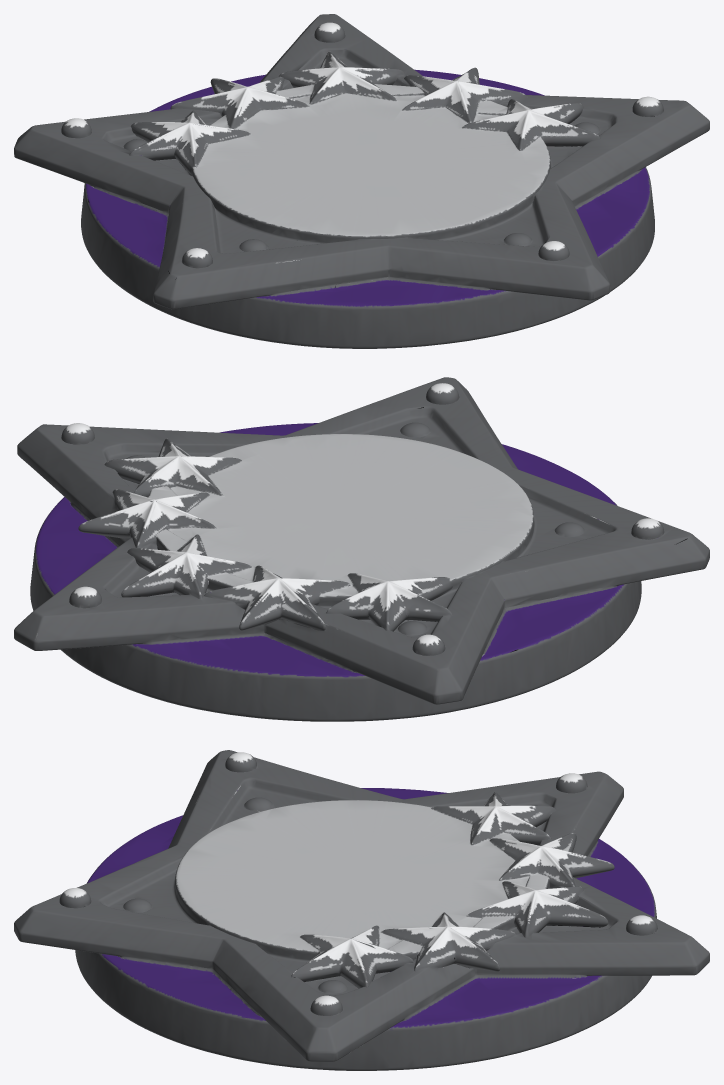
The model's file is perfect_5.glb.
3 views of the same model, one above another, from view 1: azimuth 30°, elevation 25°; view 2: azimuth 150°, elevation 25°; view 3: azimuth 270°, elevation 25° (orthographic). The views are drawn at different scales.
Visible parts, largest first — view 1: Mesh_0; view 2: Mesh_0; view 3: Mesh_0.
Boxes of the visible parts, <box> form: Mesh_0: <box>14,14,709,348</box>; Mesh_0: <box>14,377,709,721</box>; Mesh_0: <box>14,750,709,1070</box>.
Bounding box in the file's own units: 0.0394 × 0.00546 × 0.0394.
Materials: 1 (1 with a texture image).
